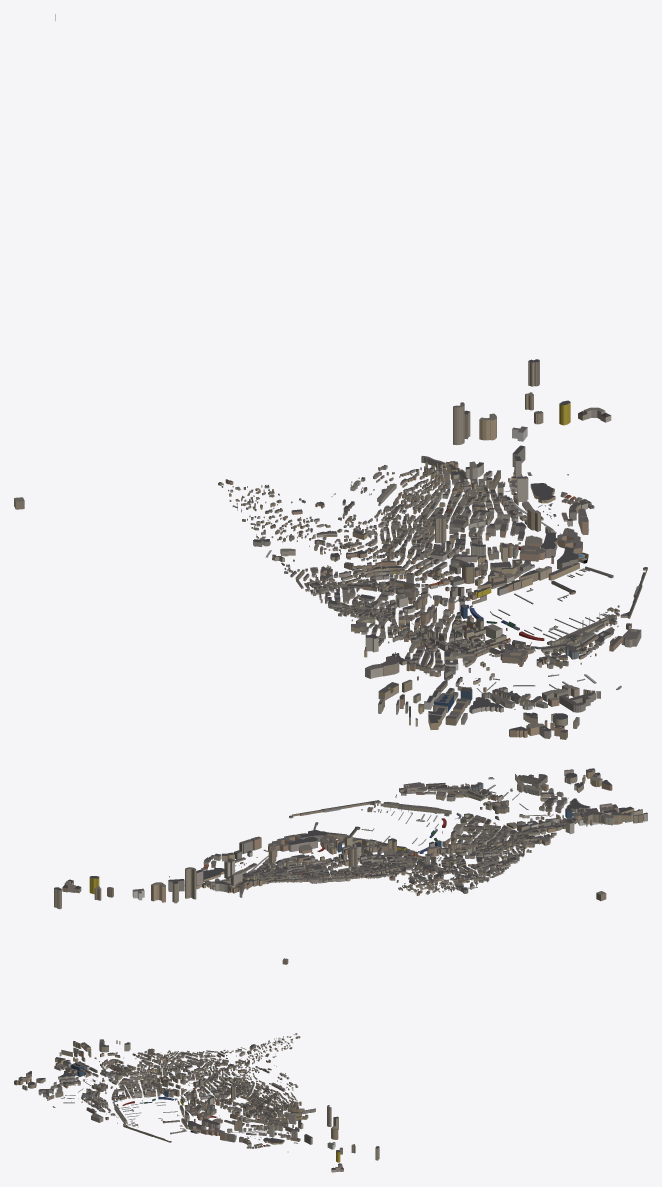
File: scenery.glb
3 renders of one model, top to bottom at view 1: azimuth 30°, elevation 25°; view 2: azimuth 150°, elevation 25°; view 3: azimuth 270°, elevation 25°, orthographic. The views are drawn at different scales.
Visible parts, largest first — view 1: chunk_13_14, chunk_14_14, chunk_15_13, chunk_13_15, chunk_13_16, chunk_14_13, chunk_14_15, chunk_15_14, chunk_12_17, chunk_13_17, chunk_12_16, chunk_14_17 (+7 smaller); view 2: chunk_14_14, chunk_13_16, chunk_15_14, chunk_13_15, chunk_13_14, chunk_13_17, chunk_15_13, chunk_12_16, chunk_12_17, chunk_14_13, chunk_14_16, chunk_12_15 (+13 smaller); view 3: chunk_15_13, chunk_13_15, chunk_13_16, chunk_14_14, chunk_14_13, chunk_13_14, chunk_15_14, chunk_12_17, chunk_12_16, chunk_12_15, chunk_13_17, chunk_14_15 (+7 smaller).
Boxes of the visible parts, bbox=[...] form: chunk_13_14: bbox=[304, 525, 434, 589]; chunk_14_14: bbox=[391, 514, 512, 575]; chunk_15_13: bbox=[424, 461, 550, 520]; chunk_13_15: bbox=[356, 577, 476, 632]; chunk_13_16: bbox=[403, 618, 532, 679]; chunk_14_13: bbox=[350, 465, 469, 528]; chunk_14_15: bbox=[432, 559, 538, 623]; chunk_15_14: bbox=[468, 507, 582, 561]; chunk_12_17: bbox=[365, 663, 472, 729]; chunk_13_17: bbox=[445, 649, 579, 713]; chunk_12_16: bbox=[351, 622, 440, 677]; chunk_14_17: bbox=[541, 631, 623, 689]; chunk_14_14: bbox=[309, 835, 407, 873]; chunk_13_16: bbox=[450, 802, 553, 844]; chunk_15_14: bbox=[240, 834, 336, 870]; chunk_13_15: bbox=[411, 838, 508, 872]; chunk_13_14: bbox=[371, 853, 474, 881]; chunk_13_17: bbox=[487, 780, 590, 821]; chunk_15_13: bbox=[204, 858, 305, 891]; chunk_12_16: bbox=[513, 810, 603, 845]; chunk_12_17: bbox=[559, 803, 642, 825]; chunk_14_13: bbox=[269, 865, 371, 883]; chunk_14_16: bbox=[398, 786, 482, 837]; chunk_12_15: bbox=[472, 839, 538, 870]; chunk_15_13: bbox=[247, 1101, 302, 1139]; chunk_13_15: bbox=[150, 1065, 206, 1097]; chunk_13_16: bbox=[101, 1067, 154, 1097]; chunk_14_14: bbox=[199, 1083, 250, 1113]; chunk_14_13: bbox=[248, 1072, 298, 1111]; chunk_13_14: bbox=[198, 1057, 249, 1088]; chunk_15_14: bbox=[197, 1107, 257, 1138]; chunk_12_17: bbox=[54, 1039, 104, 1076]; chunk_12_16: bbox=[99, 1040, 154, 1072]; chunk_12_15: bbox=[150, 1050, 200, 1067]; chunk_13_17: bbox=[52, 1071, 107, 1097]; chunk_14_15: bbox=[152, 1089, 201, 1117].
Size of the model in its own units: 3065 by 1087 by 5182.
